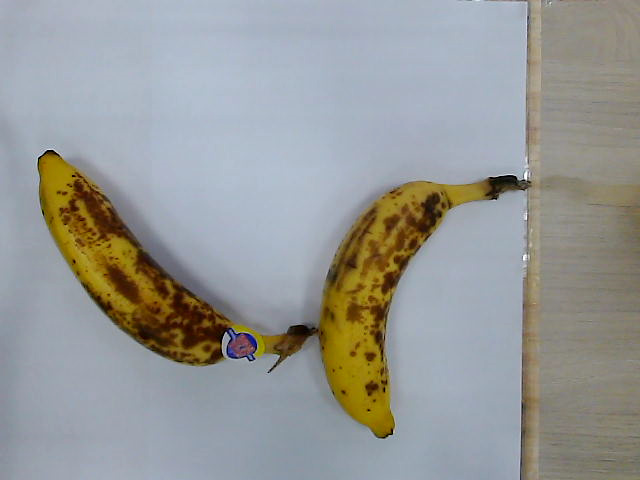rotten_banana: (36, 149, 319, 370), (319, 174, 532, 441)
